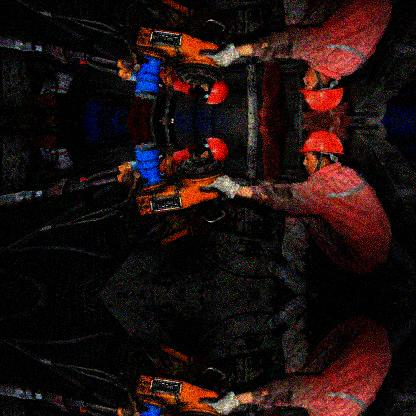helmet: (300, 65, 345, 112), (296, 130, 342, 173)
